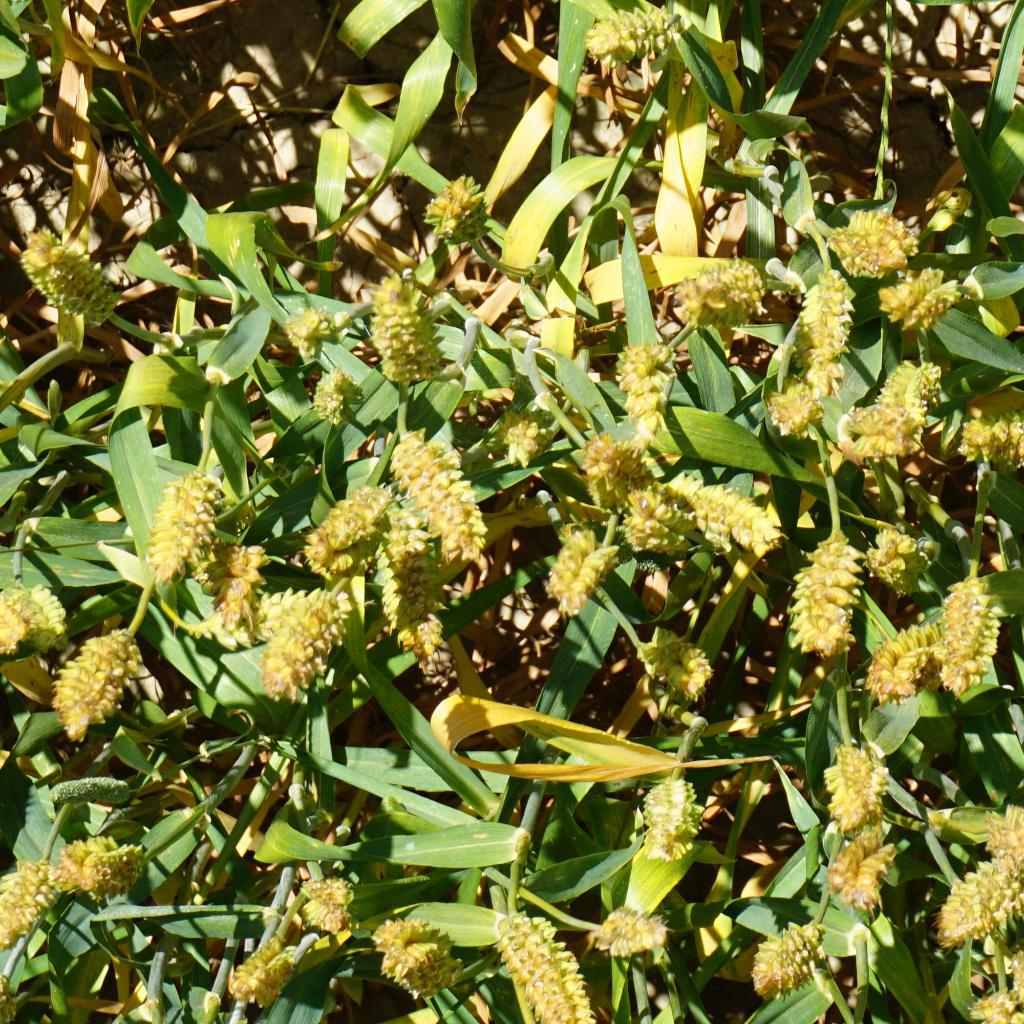0-0: (129, 454, 238, 594), (492, 905, 599, 1024), (389, 438, 495, 556), (6, 229, 124, 326), (51, 618, 150, 722), (367, 914, 472, 1001), (828, 384, 917, 470), (792, 537, 859, 651), (32, 837, 152, 900), (692, 480, 790, 553), (932, 856, 1020, 935), (274, 592, 339, 698), (367, 280, 439, 374), (864, 620, 948, 700), (314, 476, 382, 574), (940, 567, 995, 687), (546, 523, 620, 610), (678, 254, 766, 327), (944, 382, 1024, 462), (418, 163, 489, 253), (587, 0, 675, 72), (641, 620, 725, 695), (376, 510, 436, 611), (830, 824, 899, 910), (608, 338, 687, 411), (817, 751, 887, 832), (621, 477, 694, 554), (638, 773, 707, 851), (0, 570, 79, 634), (594, 897, 674, 960), (211, 543, 264, 638), (836, 203, 908, 272), (223, 939, 294, 1004), (795, 278, 850, 359), (576, 426, 640, 493), (879, 356, 940, 425), (887, 267, 955, 328), (284, 304, 353, 364), (399, 608, 457, 678), (489, 400, 554, 462), (307, 879, 367, 942), (766, 358, 812, 439), (753, 920, 807, 989), (870, 533, 932, 591), (0, 867, 42, 950), (312, 374, 358, 431), (992, 799, 1024, 873), (974, 978, 1019, 1024), (0, 590, 25, 652), (0, 969, 19, 1020)
